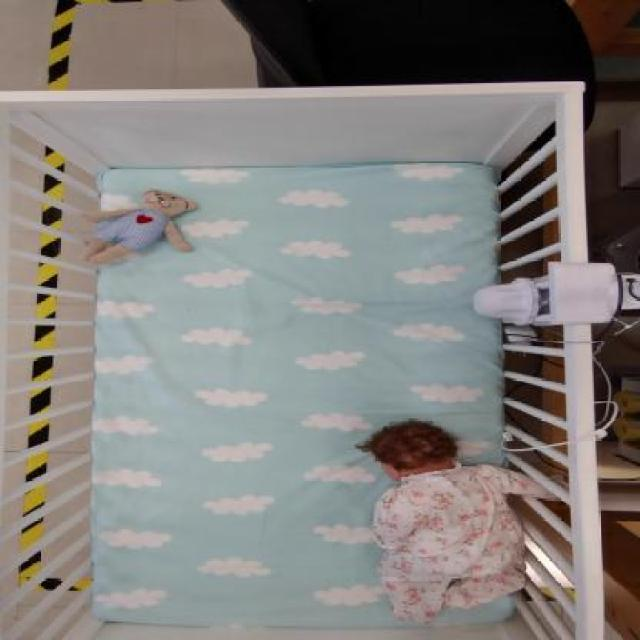baby: (352, 414, 573, 626)
